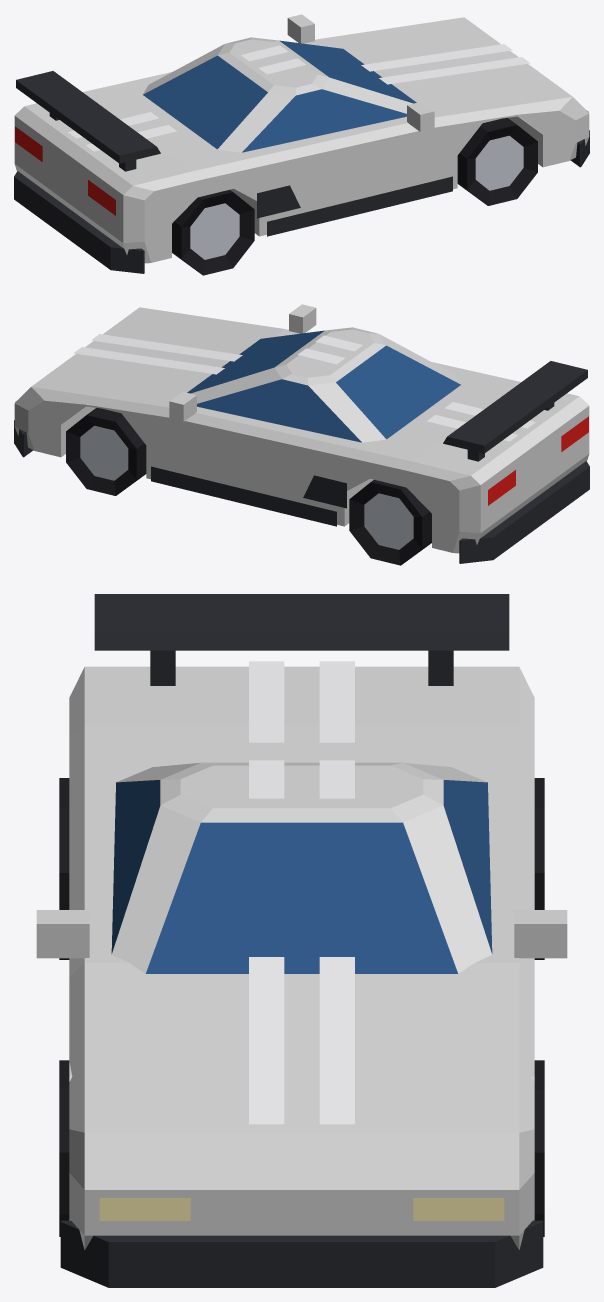
The model's file is sports.glb.
3 views of the same model, one above another, from view 1: azimuth 30°, elevation 25°; view 2: azimuth 150°, elevation 25°; view 3: azimuth 270°, elevation 25° (orthographic). The views are drawn at different scales.
Visible parts, largest first — view 1: Body; view 2: Body; view 3: Body.
Boxes of the visible parts, bbox=[...] form: Body: bbox=[14, 14, 589, 275]; Body: bbox=[14, 304, 589, 565]; Body: bbox=[36, 594, 567, 1287].
Size of the model in its own units: 0.4412 by 0.1217 by 0.21.
